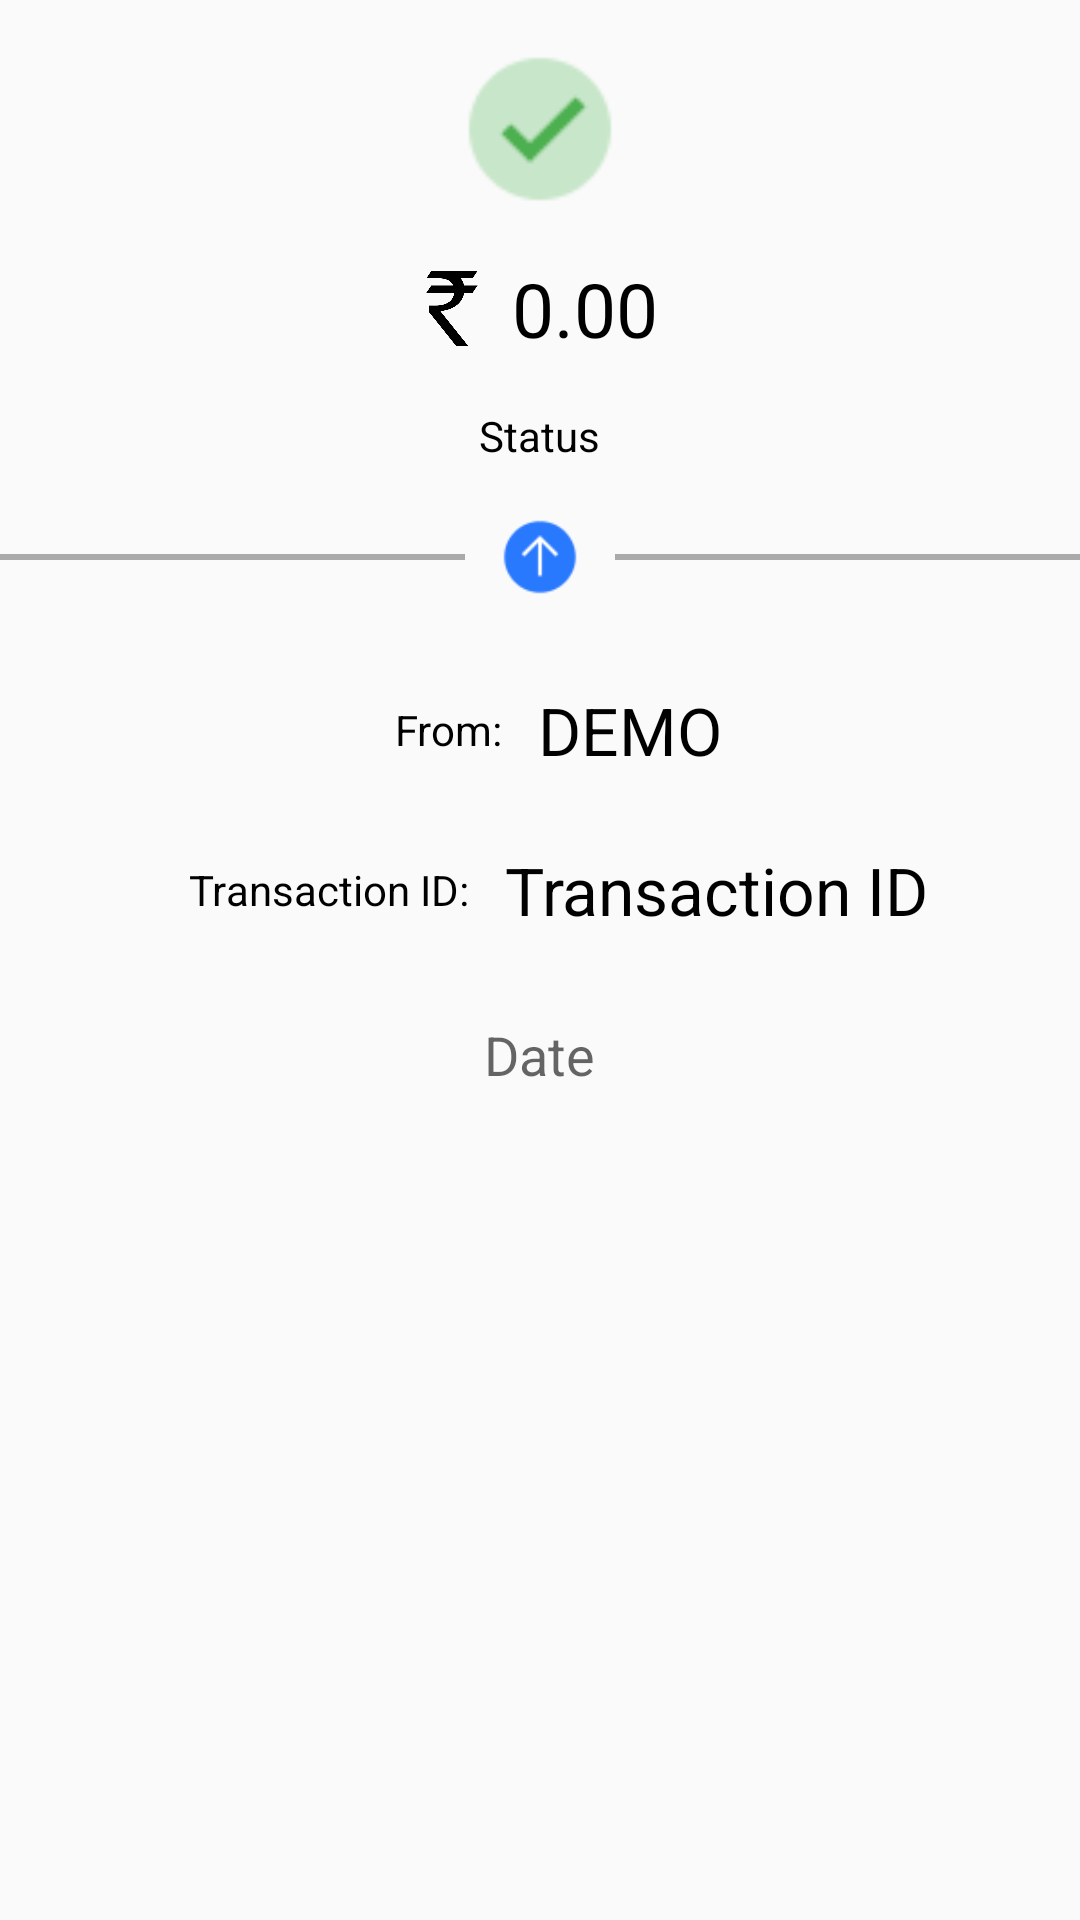

Named icons in this screenshot (1080x1920) and their bounding boxes, bbox(x1, y1, x2, y2):
checked: bbox(469, 58, 611, 200)
rupee: bbox(426, 271, 478, 346)
